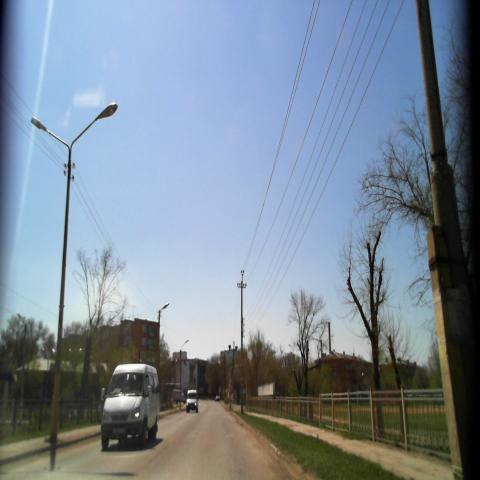1_11_1: (238, 356, 246, 368)
